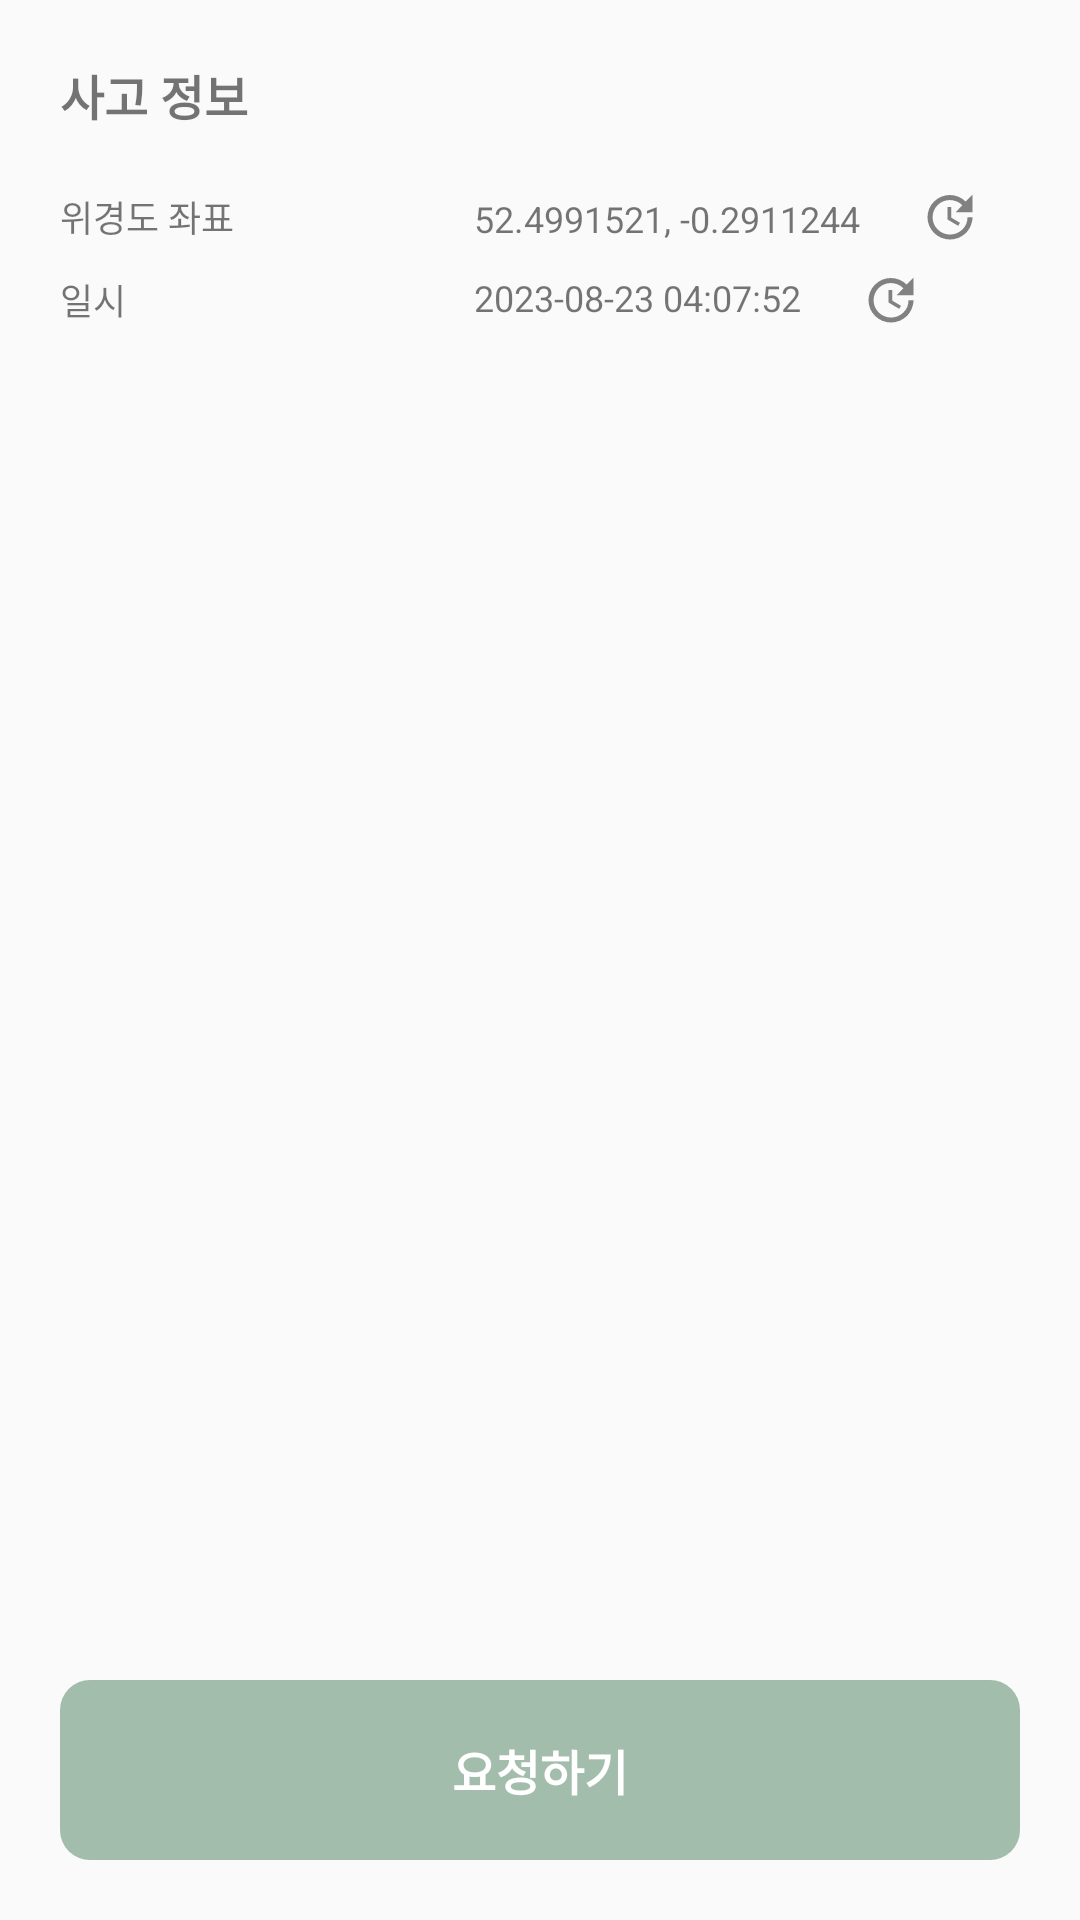

Icons on this 1080 x 1920 Android screen, each with the point to tap as (x=x, y=y):
update: (x=950, y=217), (x=891, y=300)
